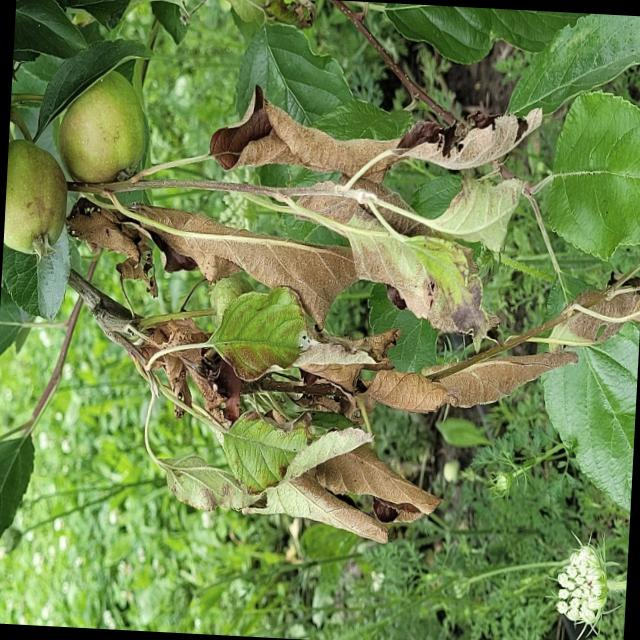-FireBlight-: (64, 0, 640, 543)
